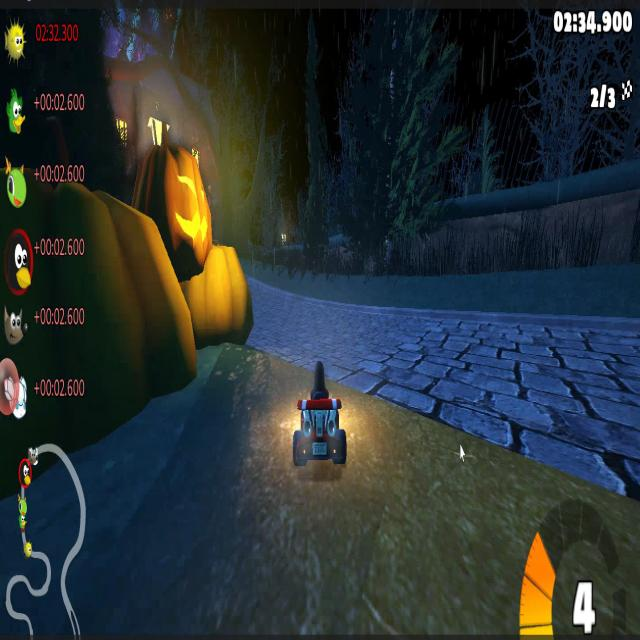player_kart: (280, 359, 353, 484)
track: (358, 353, 640, 635), (2, 503, 359, 637), (202, 354, 280, 497), (369, 304, 501, 354), (84, 447, 202, 496), (252, 301, 366, 349), (502, 315, 640, 352), (146, 404, 203, 444), (266, 277, 307, 299), (248, 268, 260, 292)
